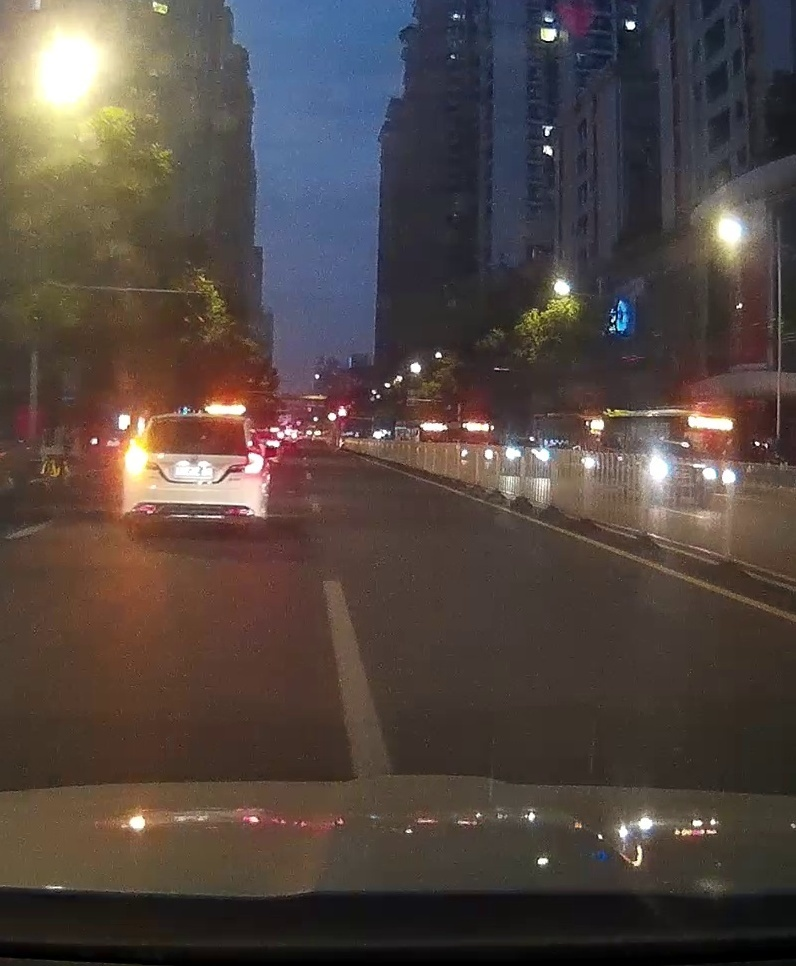L_light: (124, 443, 147, 474)
R_light: (244, 451, 264, 476)
T_light: (191, 414, 208, 420)
night-no: (123, 412, 265, 541)
